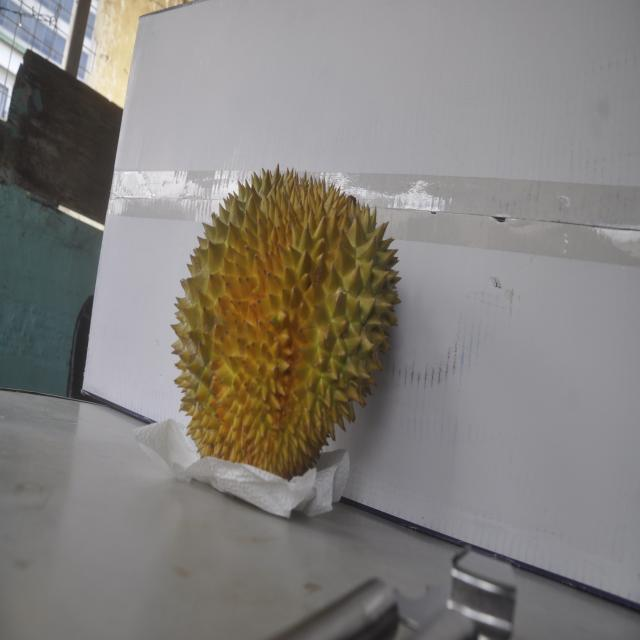mature: (167, 160, 388, 482)
